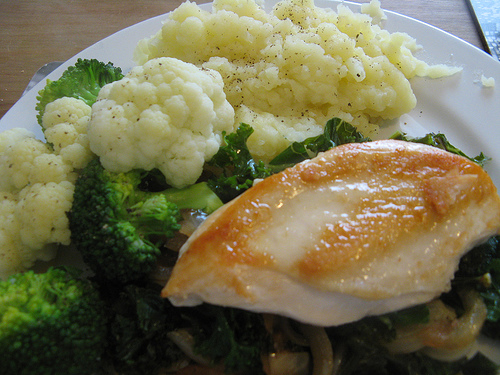cauliflower: (82, 51, 244, 187), (0, 126, 74, 279)
